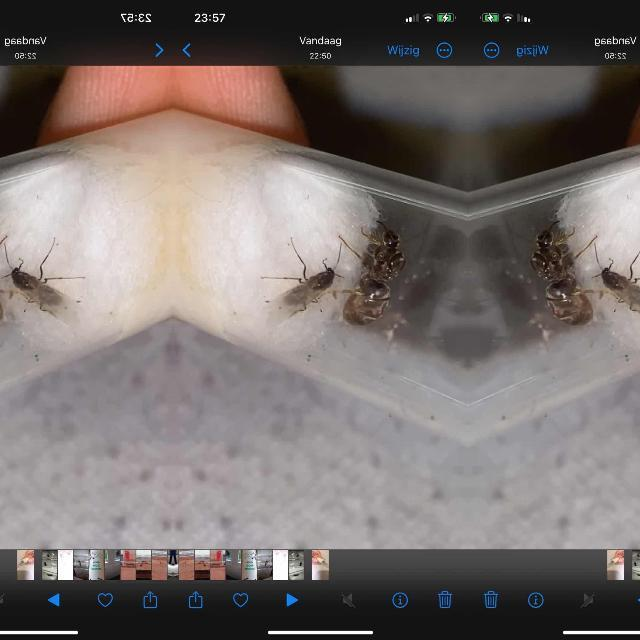Lasius: (343, 218, 407, 336), (528, 218, 592, 336), (276, 261, 330, 317), (14, 261, 68, 317), (604, 261, 640, 317)
